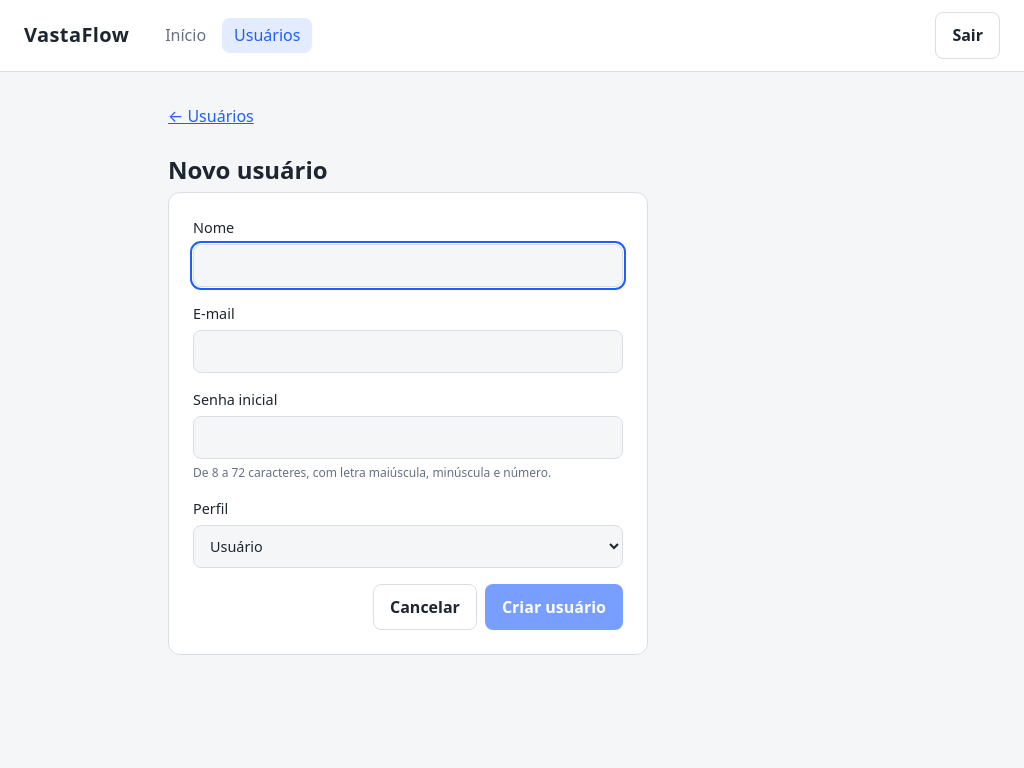
Test: formulario de usuario › e-mail ja cadastrado mostra erro e mantem o formulario
Step 1. Type "Nina" into the field labelled "Nome" → [408, 265], box [193, 244, 623, 287]
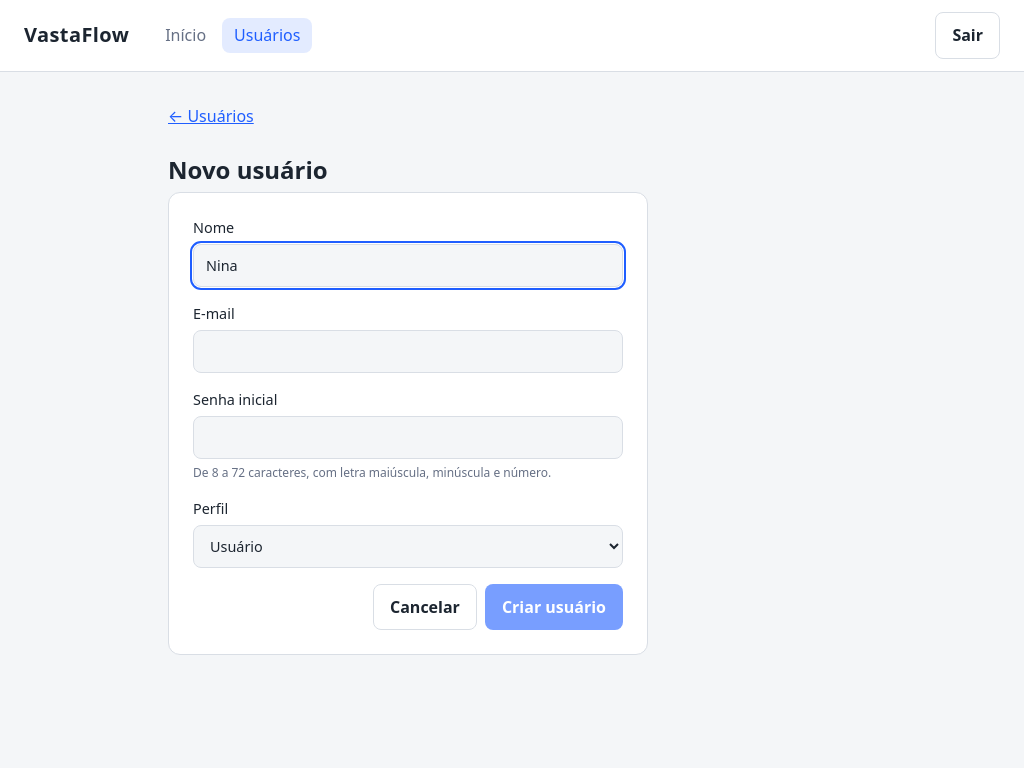
Step 2. Type "comum@vasta.test" into the field labelled "E-mail" → [408, 351], box [193, 330, 623, 373]
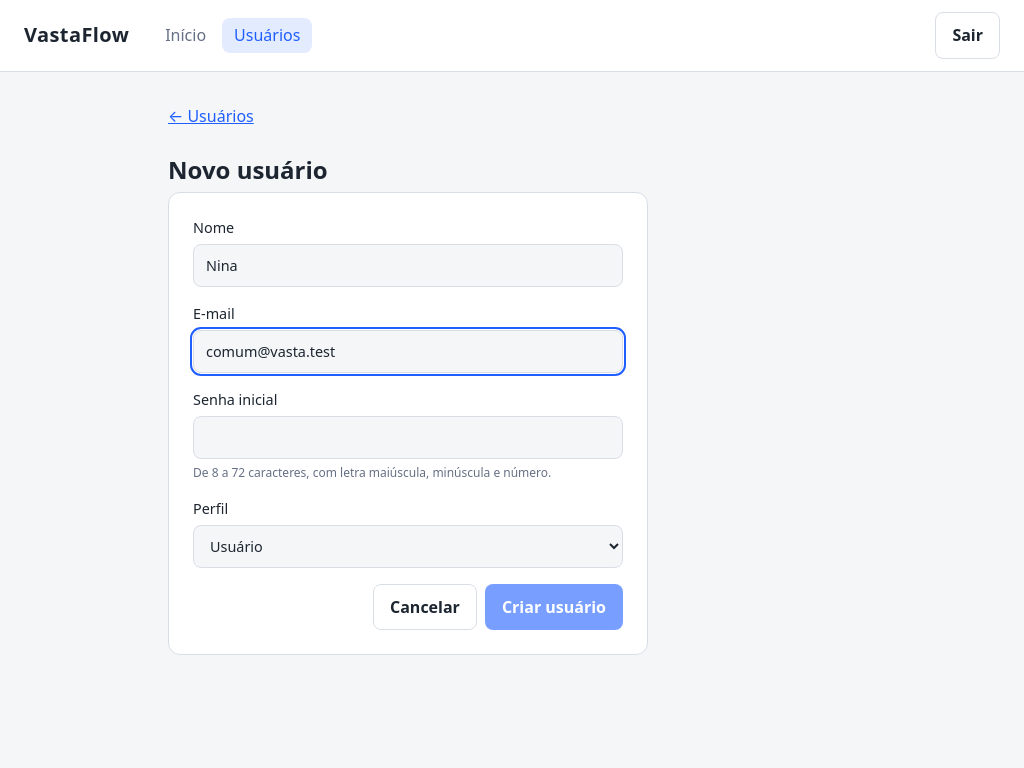
Step 3. Type "Senha1234" into the password field labelled "Senha inicial" → [408, 437], box [193, 416, 623, 459]
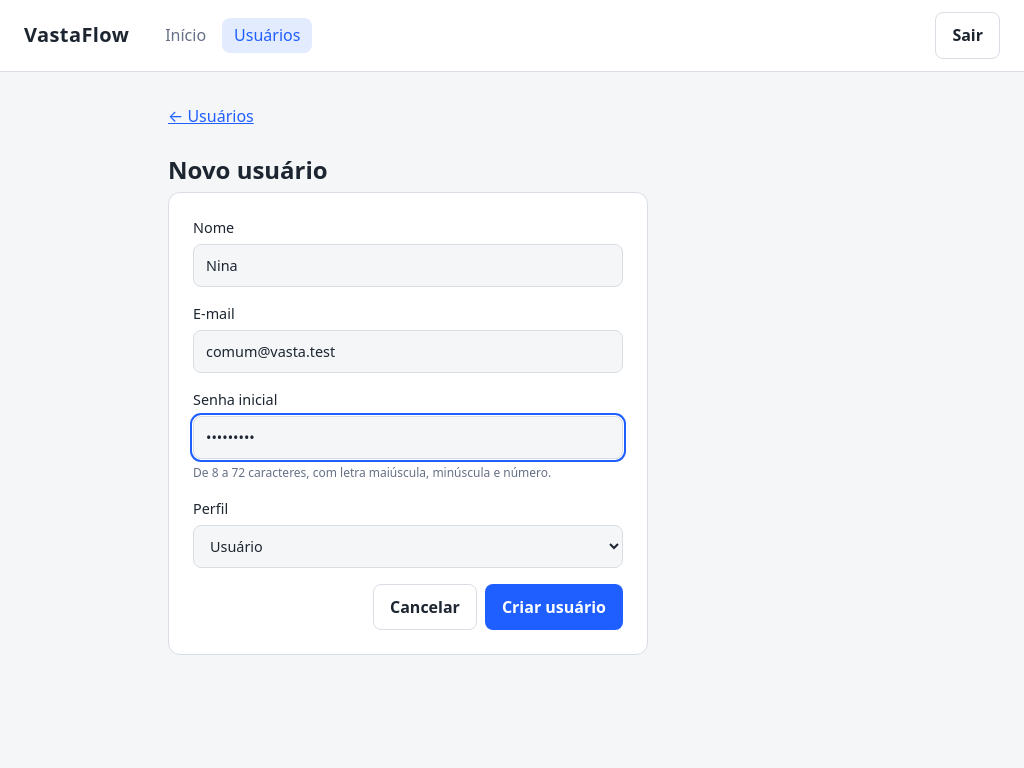
Step 4. Click the button "Criar usuário" → [554, 607], box [485, 584, 623, 630]
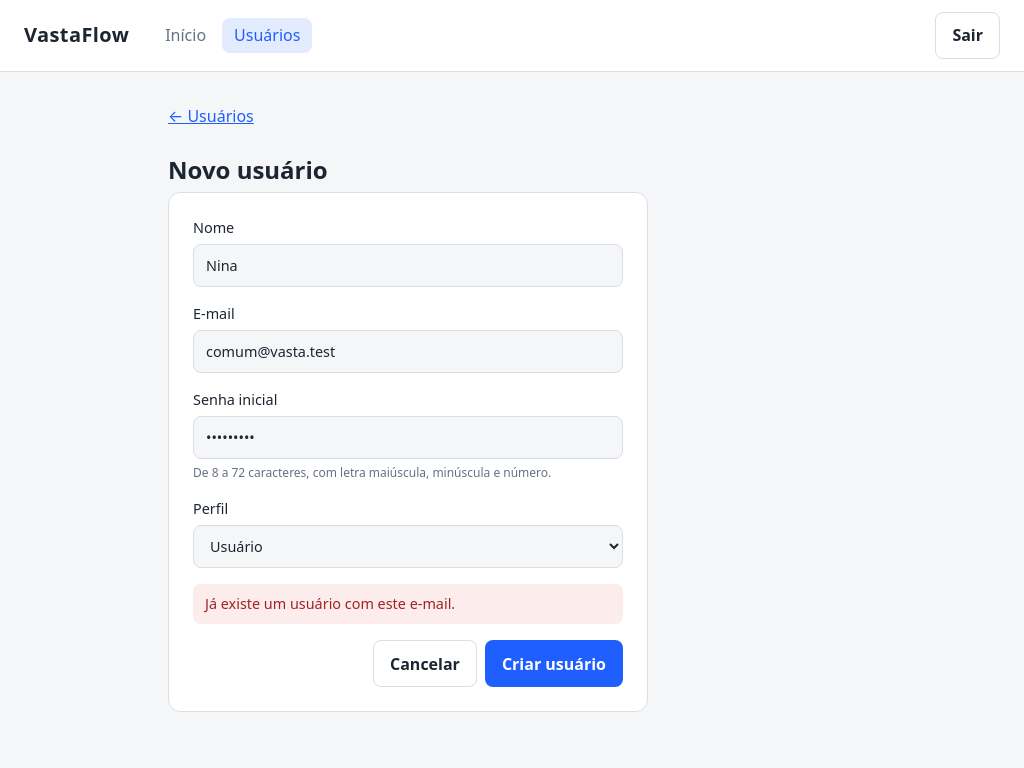
Now the message reads "Já existe um usuário com este e-mail.", box [205, 594, 455, 613]
